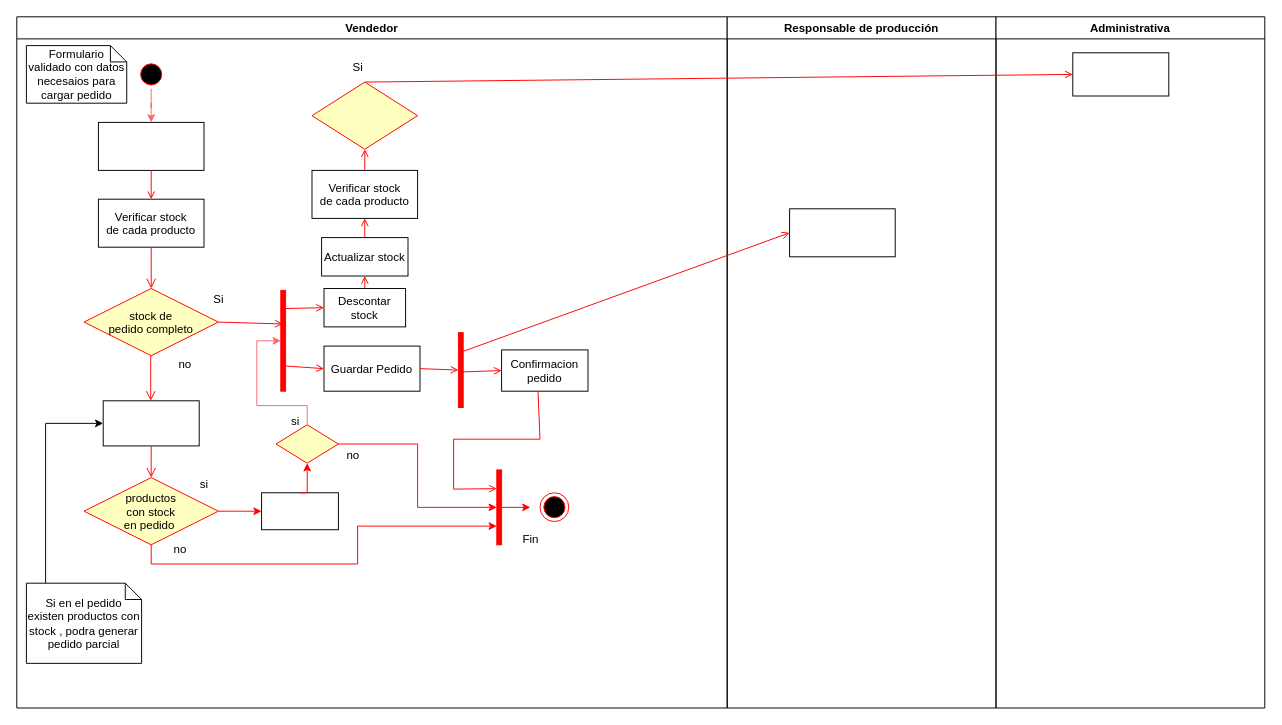
This 1282x725 diagram has some shape labels left out. The shapes that lost their labels are listed below. From the top down, each one's centre as x and y in pixels, then its label:
point (1120, 74): Enviar alerta producto sin stock
point (364, 115): sin stock algun producto
point (150, 145): Acciona enviar Pedido
point (842, 232): Alerta pedido confirmado
point (150, 423): Validar stock pedido parcial
point (306, 443): generar
point (299, 511): Generar pedido parcial
